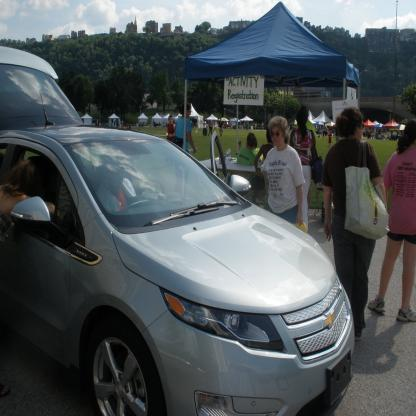Car: (3, 109, 349, 416)
